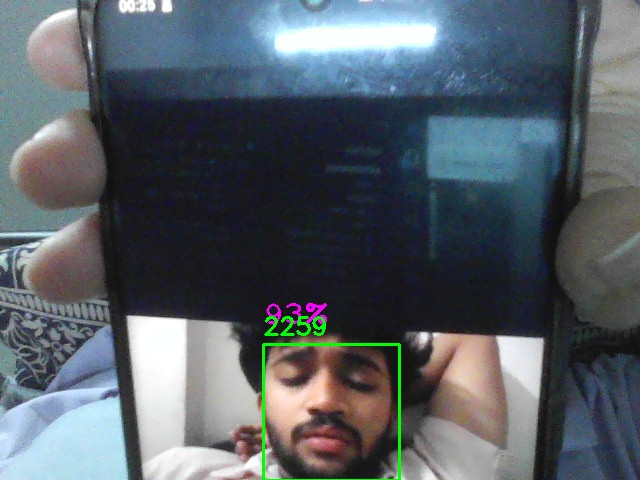fake: (263, 344, 400, 480)
